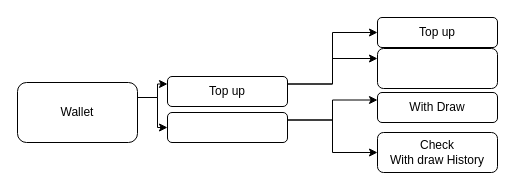
This 515x190 diagram has some shape labels left out. Here are the shapes that lost their labels. From the top down, the box of each, then its label:
(376, 48, 498, 88): Check Top up History
(166, 112, 288, 142): Withdraw
